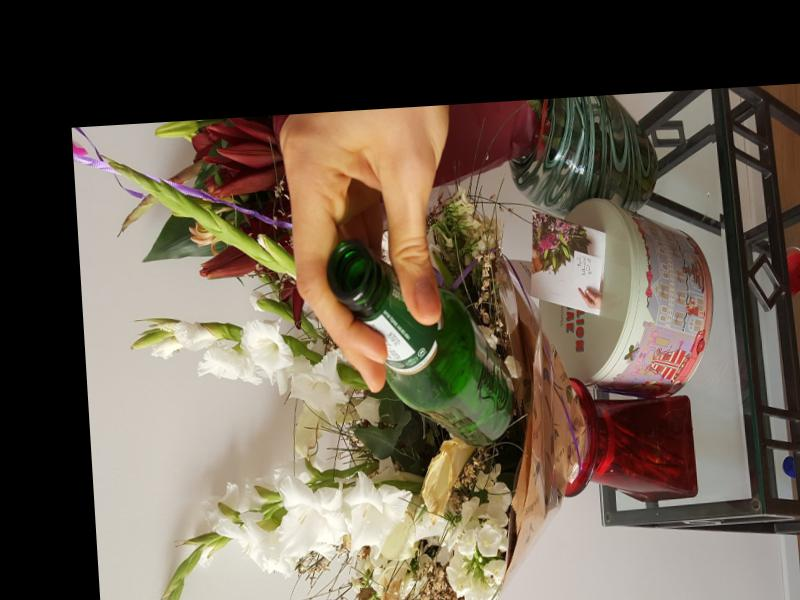Beer: (325, 234, 516, 453)
